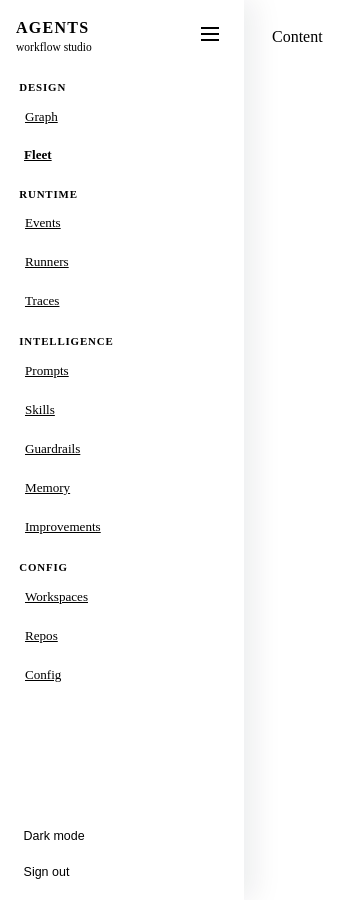
Test: <DashboardShell /> › renders the desktop navigation toggle inside the sidebar
Click the button titled "Collapse navigation": (210, 34) [192,19,228,49]
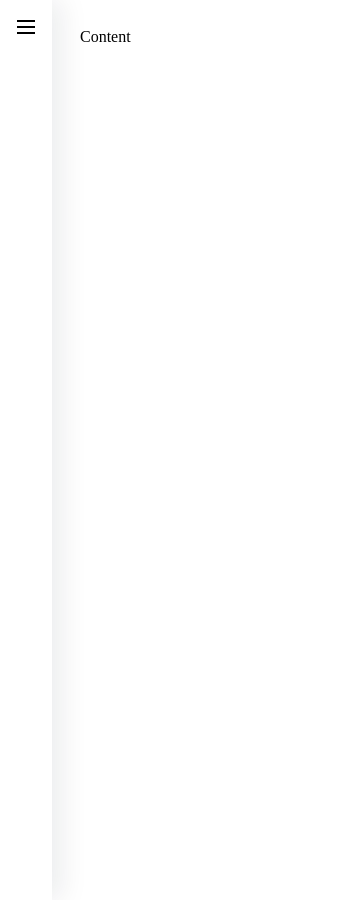
Now the element with class "nav-collapsed" is shown, box [0,0,131,899]
